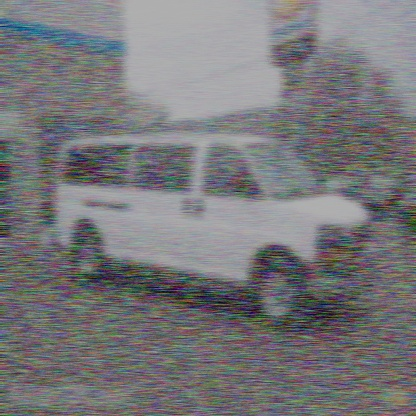Vehicle: (53, 132, 380, 327)
